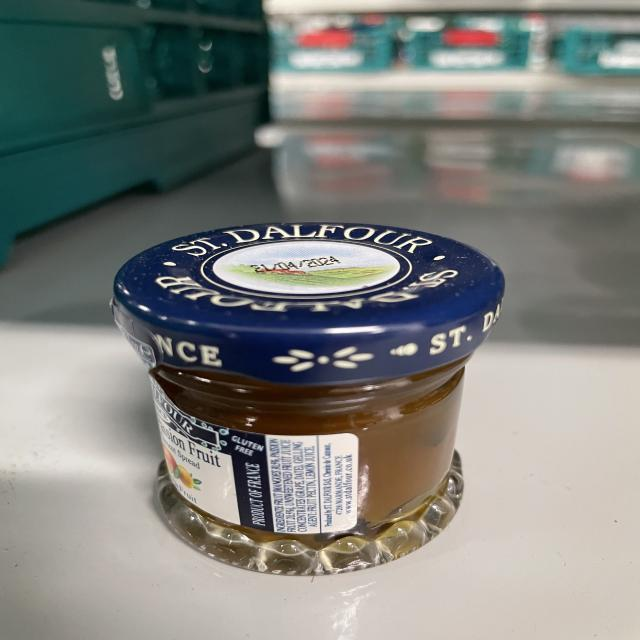object_name: (110, 228, 482, 574)
